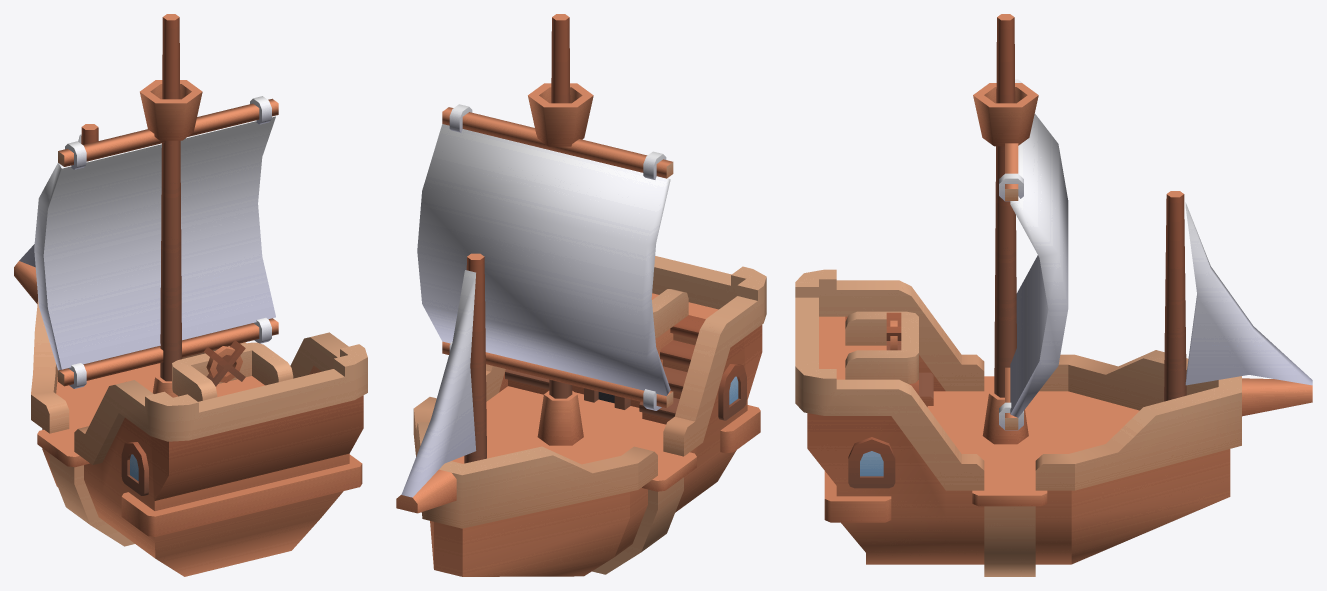
Rendered from ship.glb.
3 views of the same model, side by side, from view 1: azimuth 30°, elevation 25°; view 2: azimuth 150°, elevation 25°; view 3: azimuth 270°, elevation 25° (orthographic). The views are drawn at different scales.
Visible parts, largest first — view 1: ship-small, sail-a.006; view 2: ship-small, sail-a.006; view 3: ship-small, sail-a.006.
Boxes of the visible parts, x1,y1,x2,y2 form: ship-small: (14, 14, 367, 576); sail-a.006: (34, 96, 278, 388); ship-small: (396, 14, 766, 576); sail-a.006: (417, 104, 673, 410); ship-small: (795, 14, 1312, 576); sail-a.006: (999, 79, 1068, 430).
Bounding box in the file's own units: 4.8 × 9.96 × 8.8.
1 material, 1 textured.
